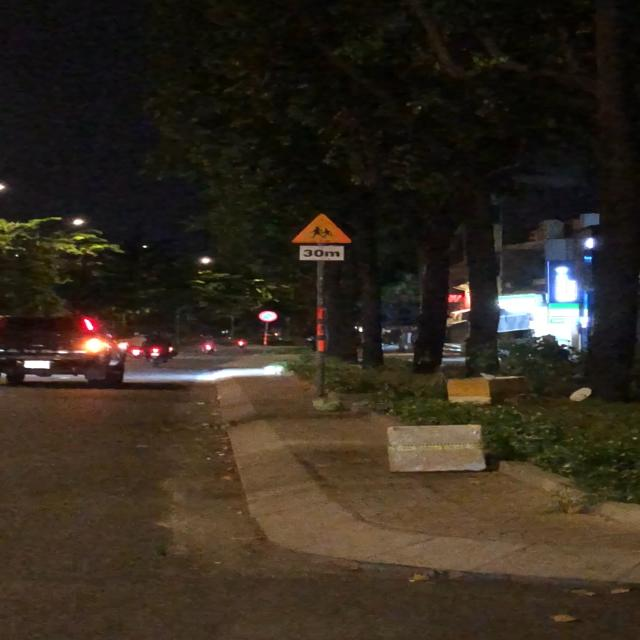Bien bao tre em: (288, 213, 350, 244)
